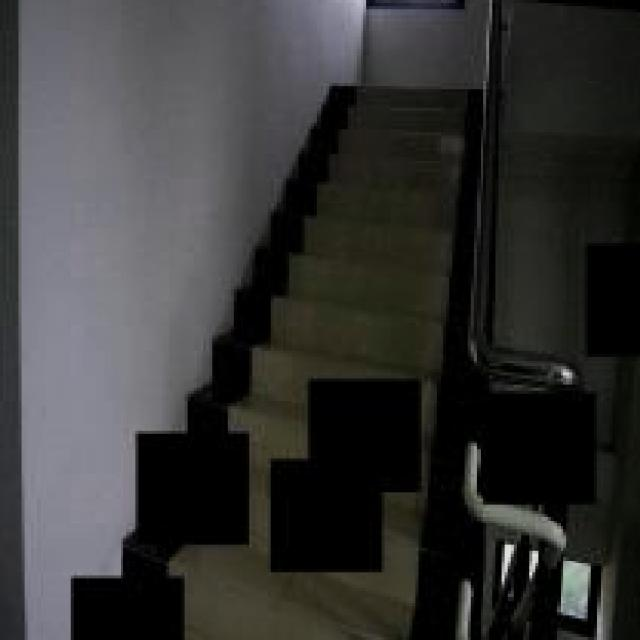upstair: (315, 75, 444, 342)
